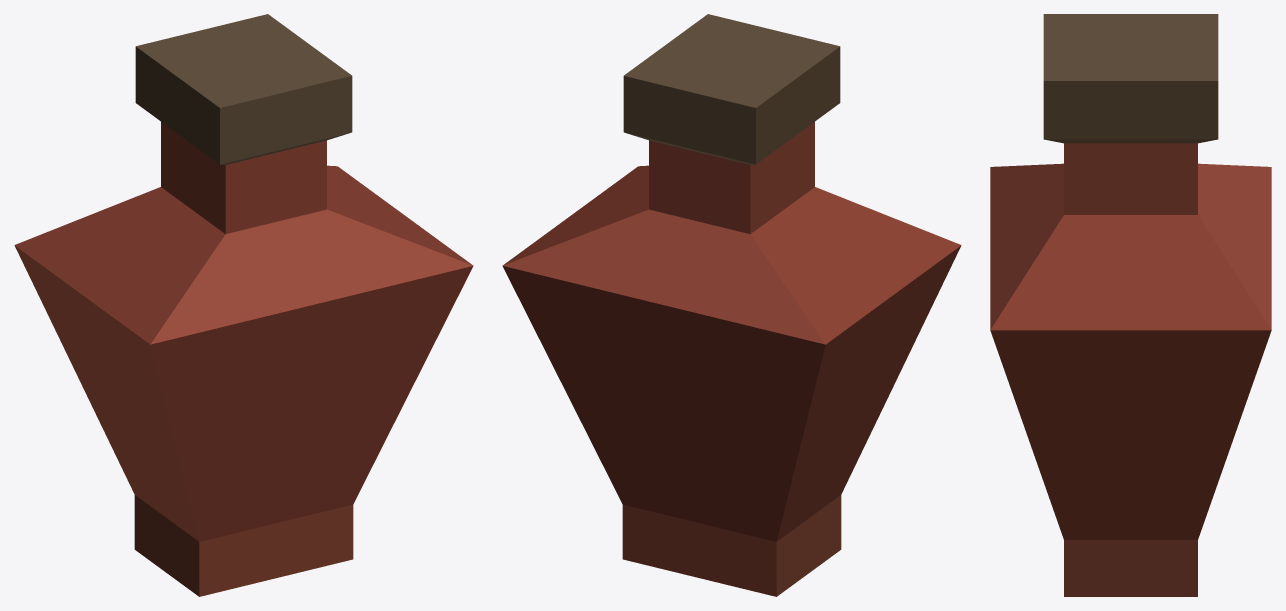
The model's file is SM_Prop_Potion_05.glb.
The picture shows the model from 3 angles, left to right: view 1: azimuth 30°, elevation 25°; view 2: azimuth 150°, elevation 25°; view 3: azimuth 270°, elevation 25°; orthographic projection. The views are drawn at different scales.
Parts seen in each view (by area): view 1: SM_Prop_Potion_05; view 2: SM_Prop_Potion_05; view 3: SM_Prop_Potion_05.
Part boxes in pixels (<box>): SM_Prop_Potion_05: <box>14,14,473,596</box>; SM_Prop_Potion_05: <box>502,14,961,596</box>; SM_Prop_Potion_05: <box>990,14,1271,596</box>.
Size of the model in its own units: 0.00387 by 0.00565 by 0.00282.
1 material, 1 textured.
